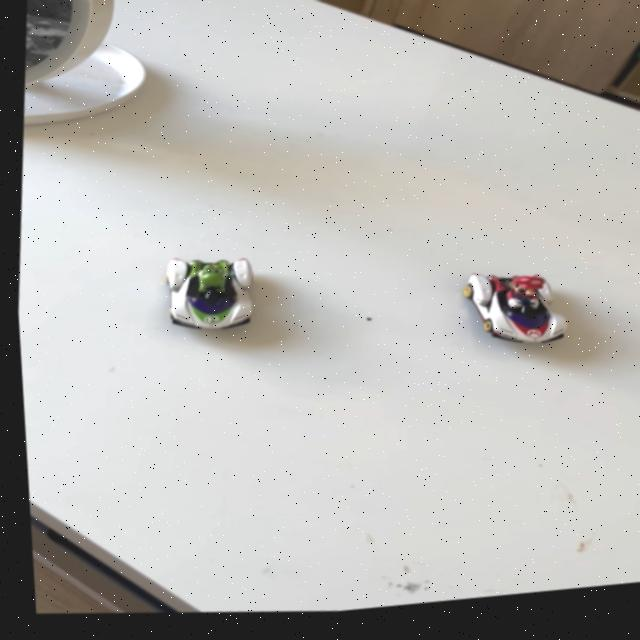mario: (436, 259, 593, 375)
yoshi: (151, 245, 268, 352)
